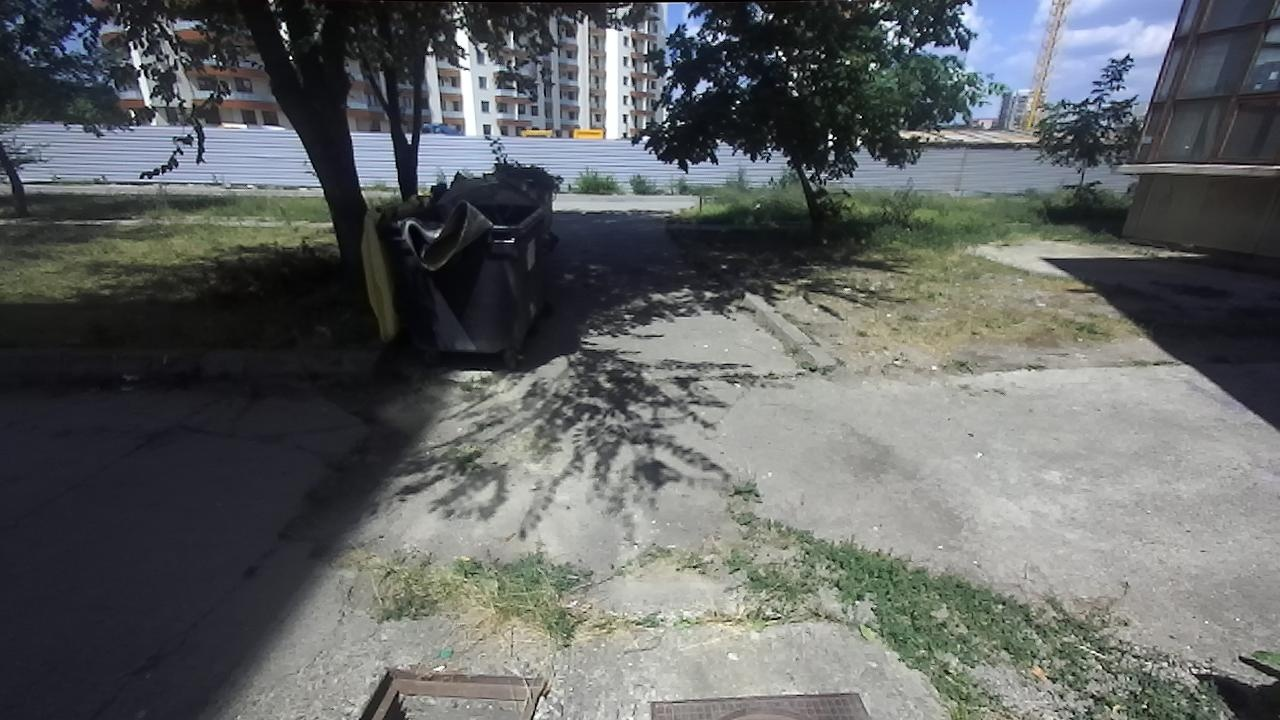drain: (347, 664, 555, 719)
